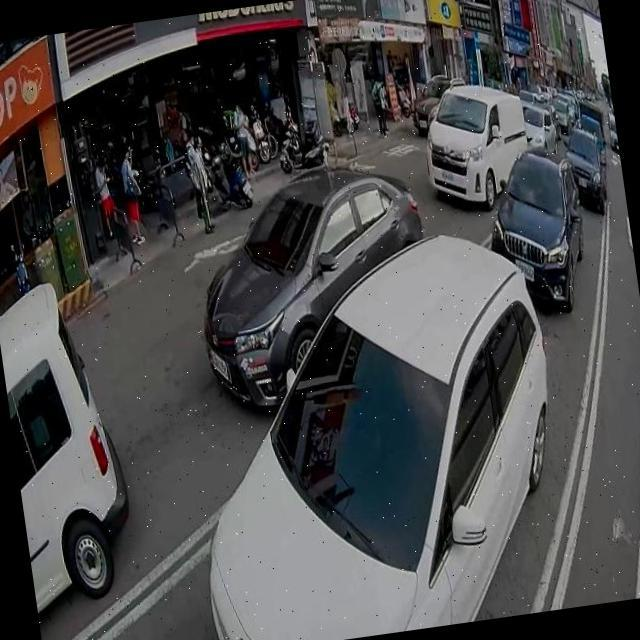person: (87, 142, 124, 252), (182, 132, 216, 234), (117, 144, 149, 252), (230, 100, 257, 178), (368, 75, 390, 138)
